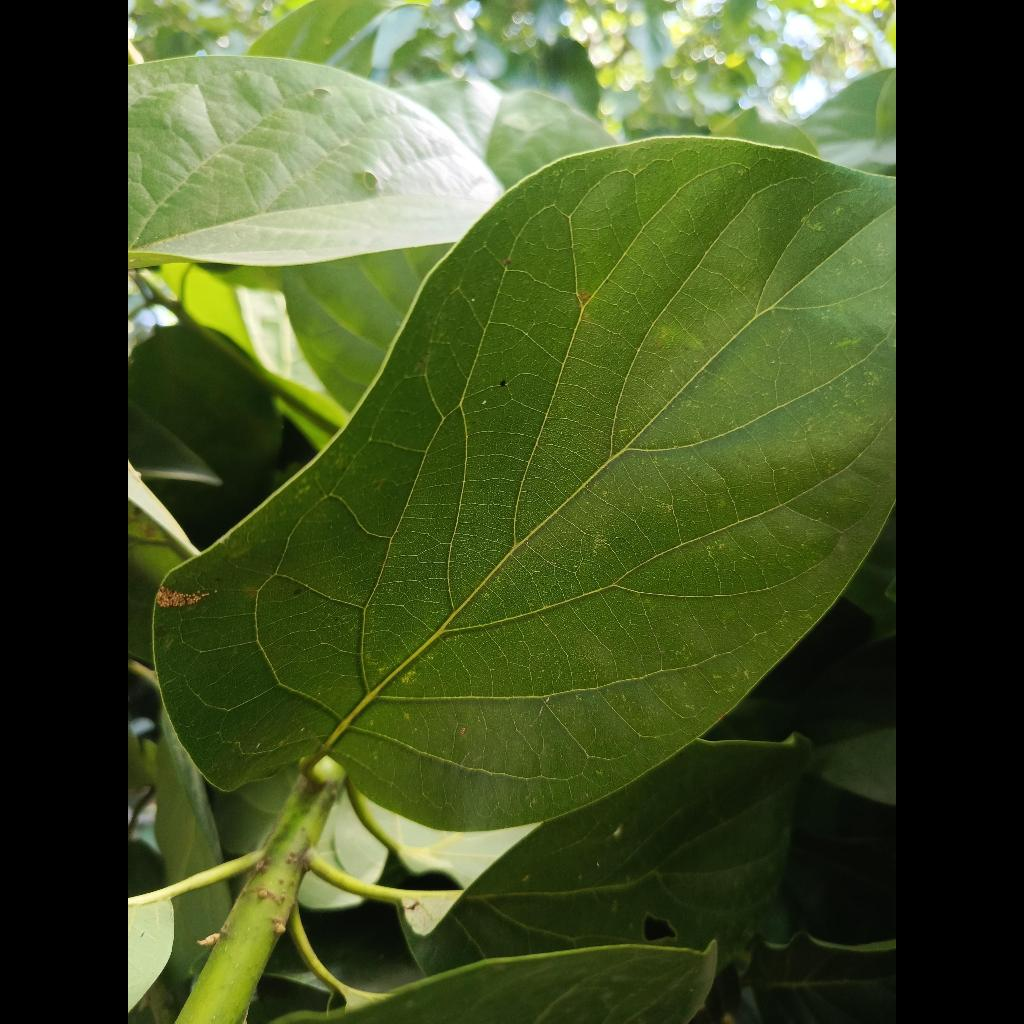Healthy: (156, 137, 896, 829)
